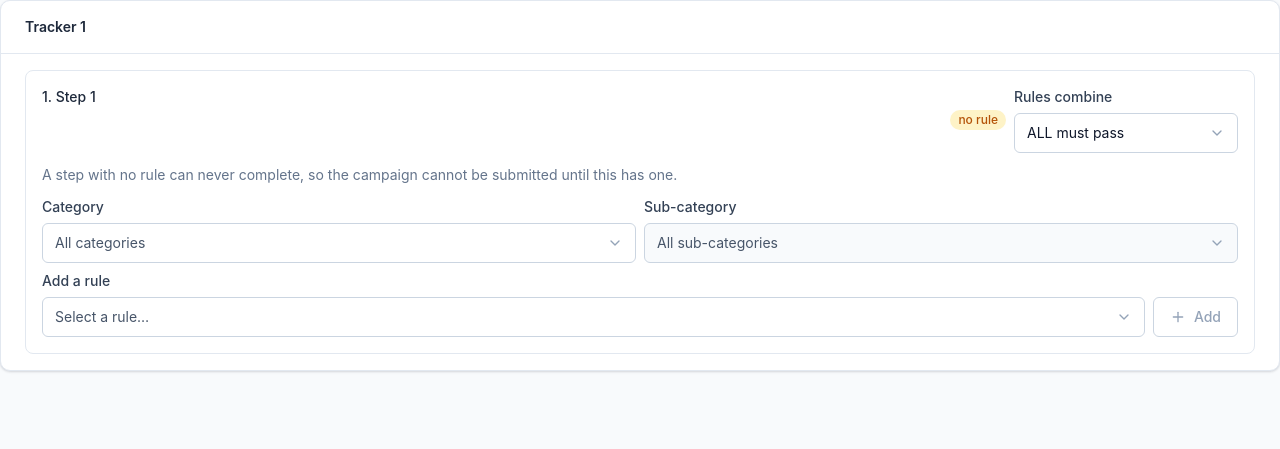
Test case: ComponentRulesStep — Add-a-rule category/sub-category filter (T-112) › TC-2: picking category COMPONENT leaves only RULE_COMP_* rules in the rule dropdown
Click the dropdown named "category": (100,242) [42, 223, 636, 263]
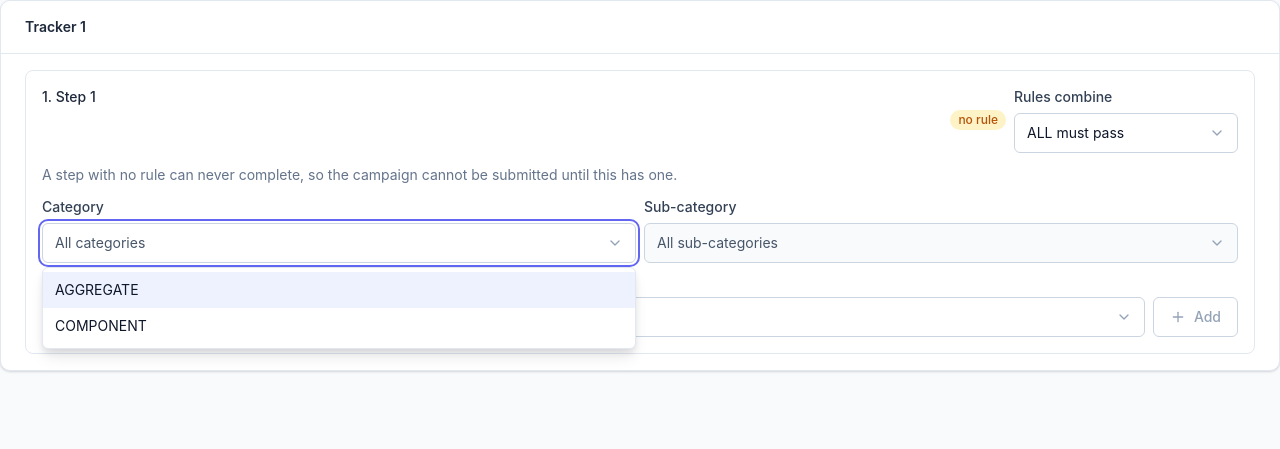
Click the option "COMPONENT": (101,326) [55, 317, 147, 334]
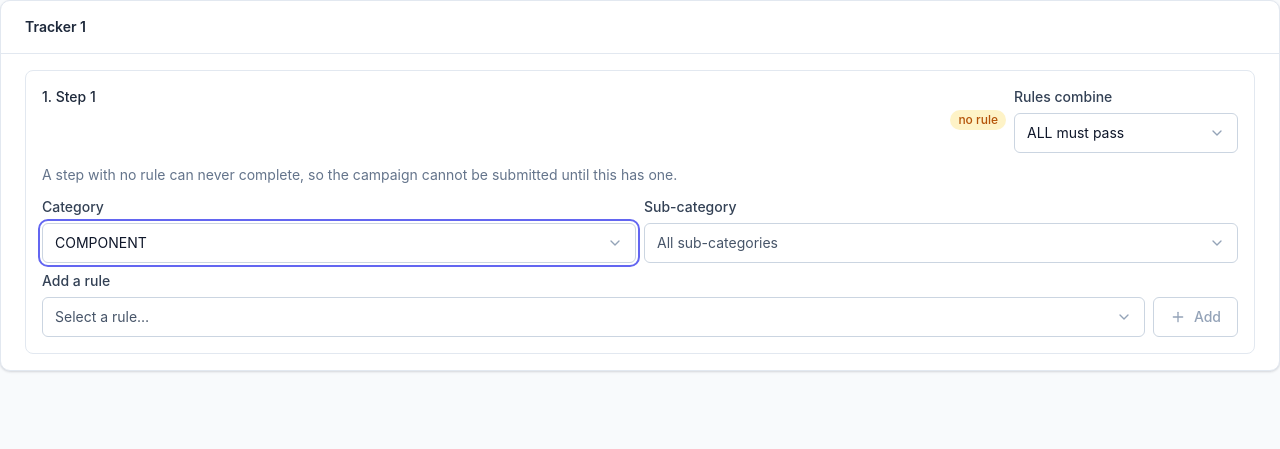
Click the dropdown named "add a rule": (102,316) [42, 297, 1145, 337]
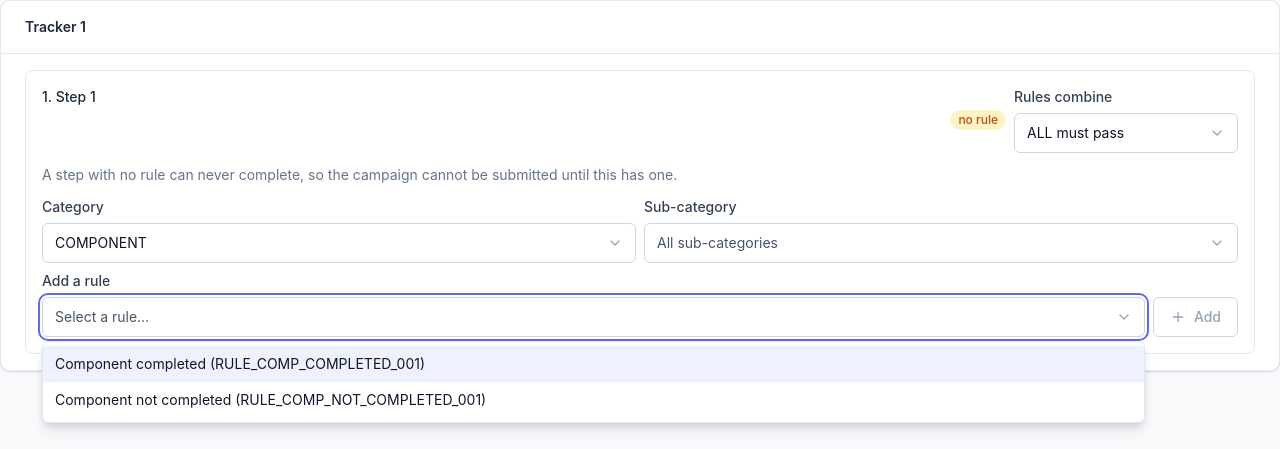
Expected: the option "Component completed (RULE_COMP_COMPLETED_001)" is shown, [43, 346, 1144, 382]
